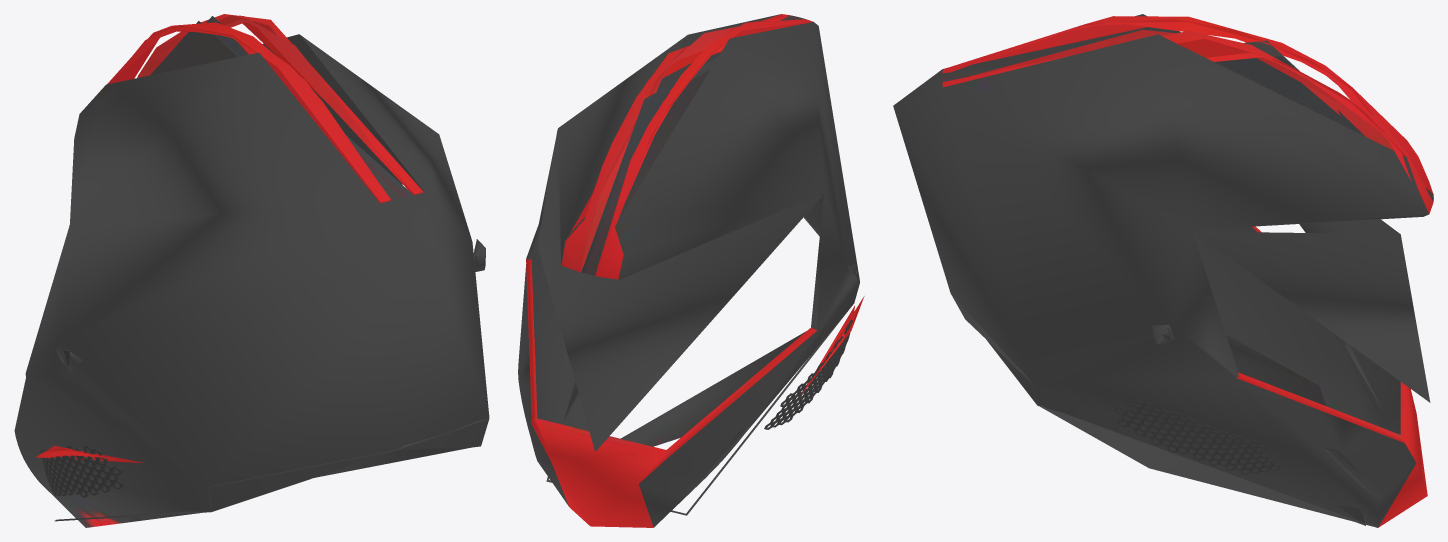
The model's file is helmet-a-lod.glb.
3 renders of one model, left to right at view 1: azimuth 30°, elevation 25°; view 2: azimuth 150°, elevation 25°; view 3: azimuth 270°, elevation 25°, orthographic. The views are drawn at different scales.
Parts seen in each view (by area): view 1: TopStripes_LP_Material_01_0; view 2: TopStripes_LP_Material_01_0; view 3: TopStripes_LP_Material_01_0.
Boxes of the visible parts, bbox=[...] form: TopStripes_LP_Material_01_0: bbox=[14, 14, 489, 527]; TopStripes_LP_Material_01_0: bbox=[518, 14, 864, 527]; TopStripes_LP_Material_01_0: bbox=[893, 14, 1433, 527].
Bounding box in the file's own units: 0.7247 × 0.9356 × 0.9556.
1 material, 1 textured.
